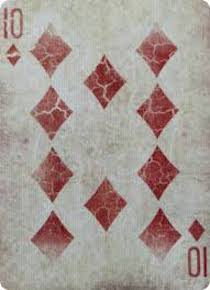TenOfDiamonds: (1, 1, 210, 285)
